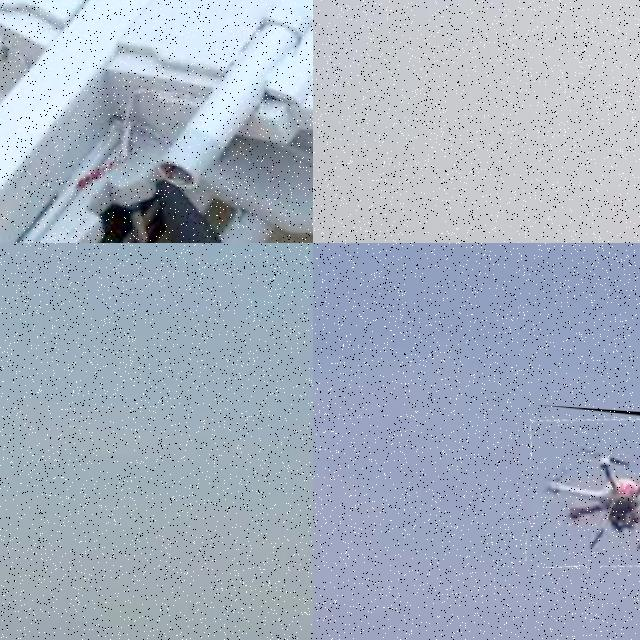0: (524, 403, 640, 574)
drone: (0, 0, 313, 243)
